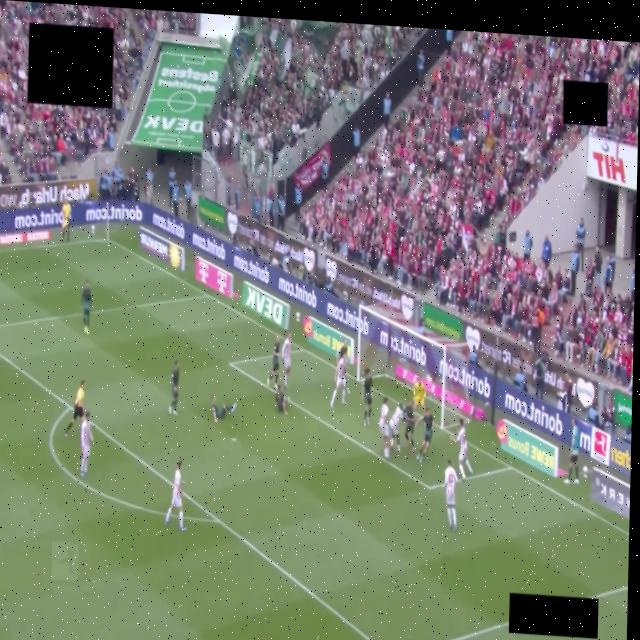player: (165, 461, 185, 531), (452, 418, 471, 480), (443, 460, 457, 531), (378, 397, 392, 460), (416, 407, 432, 462), (330, 355, 346, 407), (388, 403, 404, 453), (80, 411, 91, 476), (210, 395, 235, 422), (361, 369, 372, 426), (267, 336, 279, 388), (80, 280, 91, 333), (403, 402, 414, 454), (281, 333, 291, 389), (168, 361, 178, 414), (275, 385, 289, 415), (413, 379, 425, 411), (336, 339, 348, 362)
referee: (64, 380, 85, 436)
